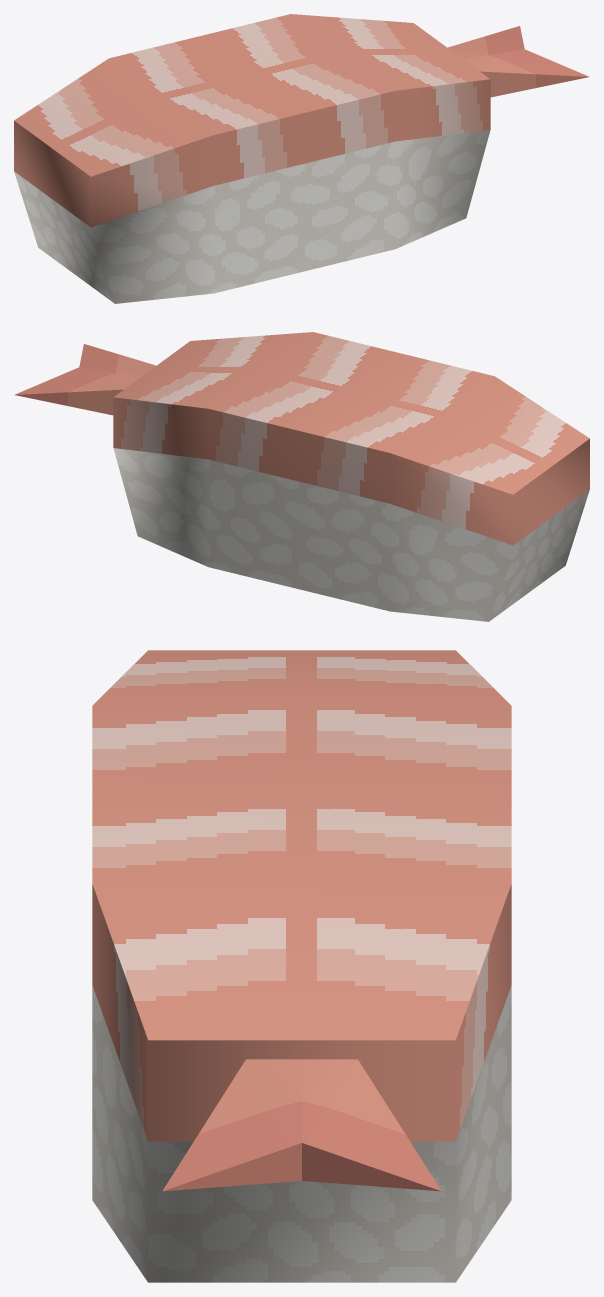
The model's file is 0050_Shrimp_Sushi.glb.
The picture shows the model from 3 angles, top to bottom: view 1: azimuth 30°, elevation 25°; view 2: azimuth 150°, elevation 25°; view 3: azimuth 270°, elevation 25°; orthographic projection. The views are drawn at different scales.
Parts seen in each view (by area): view 1: part_0; view 2: part_0; view 3: part_0.
Boxes of the visible parts, x1,y1,x2,y2 form: part_0: (14,14,589,303); part_0: (14,332,589,621); part_0: (92,650,511,1282).
Size of the model in its own units: 0.083 by 0.025 by 0.03.
Materials: 1 (1 with a texture image).
